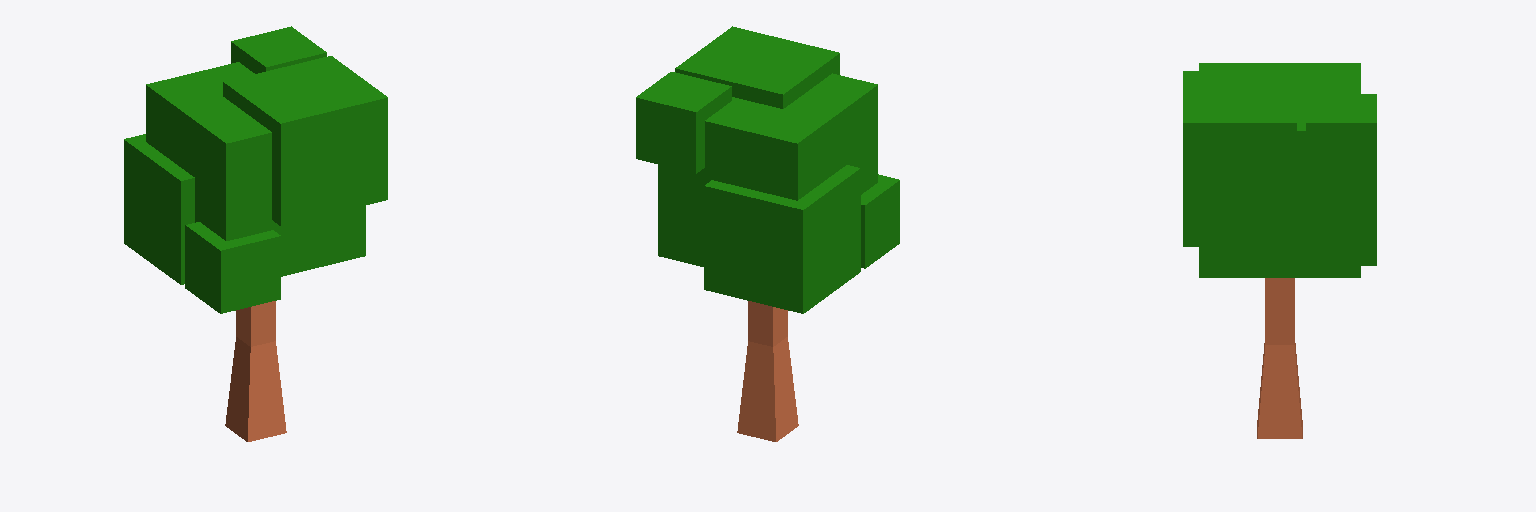
Rendered from city_tree_a.obj.
3 renders of one model, left to right at view 1: azimuth 30°, elevation 25°; view 2: azimuth 150°, elevation 25°; view 3: azimuth 270°, elevation 25°, orthographic.
Parts seen in each view (by area): view 1: mergedBlocks; view 2: mergedBlocks; view 3: mergedBlocks.
Boxes of the visible parts, x1,y1,x2,y2 form: mergedBlocks: [124, 26, 387, 441]; mergedBlocks: [636, 26, 899, 441]; mergedBlocks: [1183, 63, 1376, 438].
Bounding box in the file's own units: 0.6 × 1.19 × 0.6.